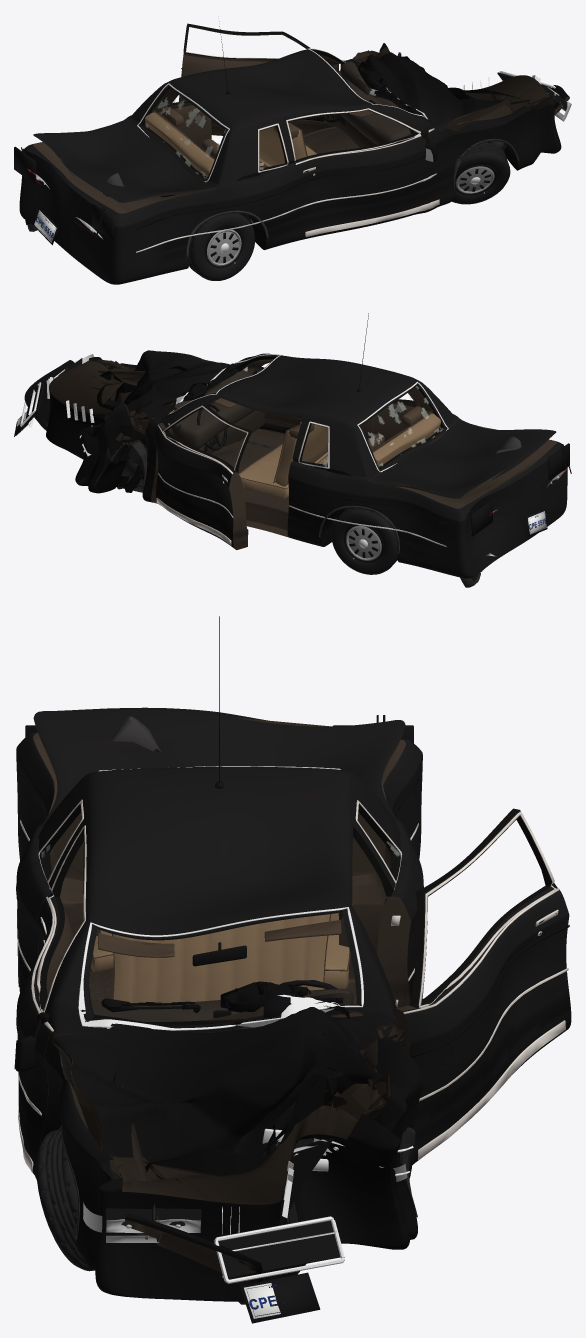
The model's file is coupe84_front_corner_d3_lod1.glb.
3 renders of one model, top to bottom at view 1: azimuth 30°, elevation 25°; view 2: azimuth 150°, elevation 25°; view 3: azimuth 270°, elevation 25°, orthographic. The views are drawn at different scales.
Parts seen in each view (by area): view 1: Body, Door_FR, Trunk, Interior, Hood, Wheel_RR_mesh, Wheel_FR_mesh, Trim_FR, Door_FL, Ends, Trim, Glass; view 2: Body, Interior, Trunk, Door_FL, Hood, Wheel_RL_mesh, Ends, Trim, Glass, Trim_FL, Door_FR, Bumper_R; view 3: Body, Hood, Door_FL, Trunk, Interior, Ends, Door_FR, Trim, Trim_FL, Glass, Wheel_FR_mesh, Trim_FR (+1 smaller).
Boxes of the visible parts, bbox=[...] form: Body: bbox=[19, 43, 561, 284]; Door_FR: bbox=[285, 108, 443, 240]; Trunk: bbox=[33, 118, 215, 202]; Interior: bbox=[145, 61, 414, 176]; Hood: bbox=[346, 52, 569, 130]; Wheel_RR_mesh: bbox=[189, 213, 254, 280]; Wheel_FR_mesh: bbox=[452, 142, 510, 204]; Trim_FR: bbox=[286, 108, 439, 236]; Door_FL: bbox=[178, 23, 338, 135]; Ends: bbox=[14, 71, 571, 245]; Trim: bbox=[136, 21, 519, 259]; Glass: bbox=[137, 48, 427, 182]; Body: bbox=[46, 353, 567, 578]; Interior: bbox=[171, 370, 440, 498]; Trunk: bbox=[371, 418, 556, 498]; Door_FL: bbox=[154, 404, 252, 549]; Hood: bbox=[24, 350, 230, 440]; Wheel_RL_mesh: bbox=[331, 508, 397, 574]; Ends: bbox=[14, 354, 571, 536]; Trim: bbox=[94, 313, 446, 553]; Glass: bbox=[168, 354, 448, 472]; Trim_FL: bbox=[156, 405, 248, 545]; Door_FR: bbox=[247, 360, 374, 439]; Bumper_R: bbox=[460, 436, 521, 587]; Body: bbox=[16, 731, 423, 1301]; Hood: bbox=[52, 1005, 397, 1304]; Door_FL: bbox=[393, 808, 571, 1164]; Trunk: bbox=[33, 707, 405, 823]; Interior: bbox=[91, 912, 356, 1021]; Ends: bbox=[25, 715, 413, 1323]; Door_FR: bbox=[16, 823, 87, 1177]; Trim: bbox=[16, 616, 423, 1239]; Trim_FL: bbox=[395, 811, 569, 1159]; Glass: bbox=[39, 766, 401, 1030]; Wheel_FR_mesh: bbox=[36, 1129, 92, 1271]; Trim_FR: bbox=[14, 825, 86, 1172].
Size of the model in its own units: 5.26 by 2.14 by 2.46.
Materials: 33 (5 with a texture image).
